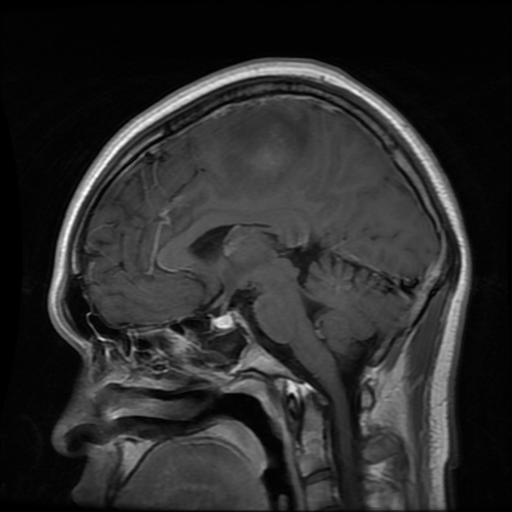Gliomia_tumour: (225, 99, 307, 194)
